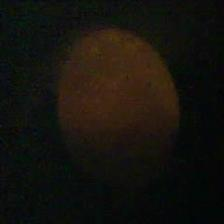fertile: (56, 28, 183, 183)
